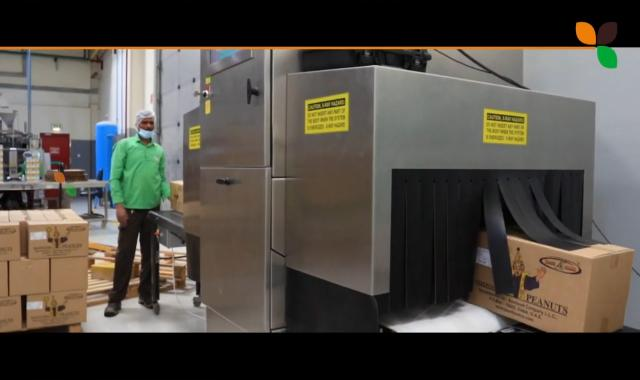hairnet: (134, 108, 156, 131)
